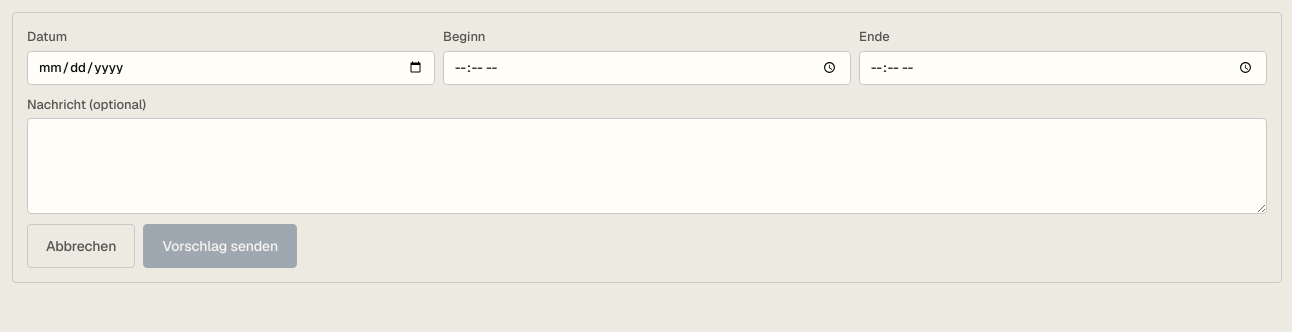
Test case: provider current viewing › uses the proposal fallback for an unknown schedule error
In the date field labelled "Datum": [231, 68] box top-left (27, 50), bottom-right (435, 84), type "2026-01-15"
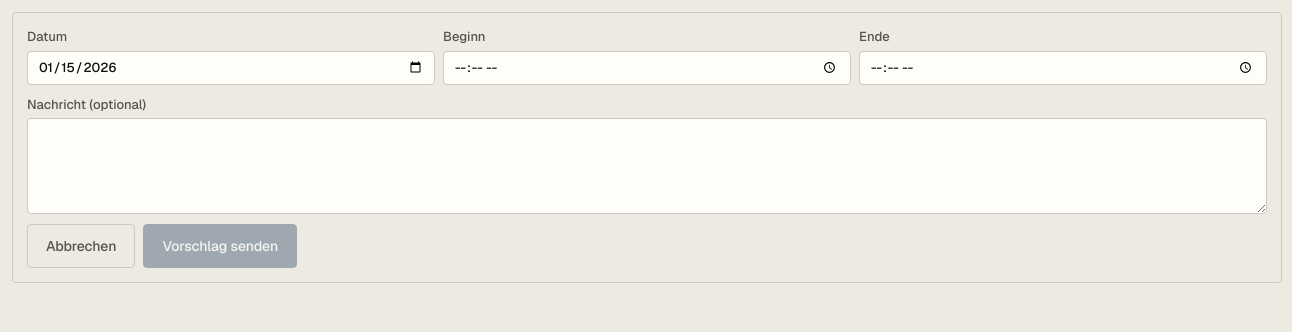
In the time field labelled "Beginn": [647, 68] box top-left (443, 50), bottom-right (851, 84), type "16:00"
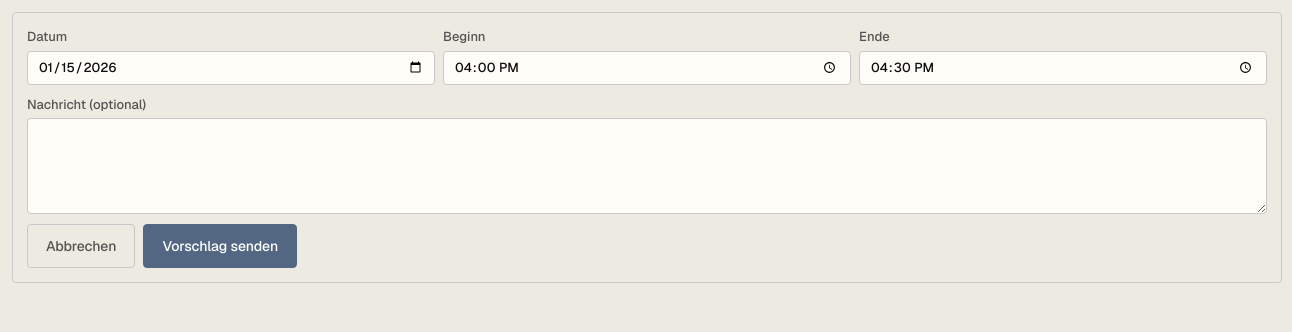
Click the button "Vorschlag senden": [220, 246] box top-left (143, 224), bottom-right (297, 268)
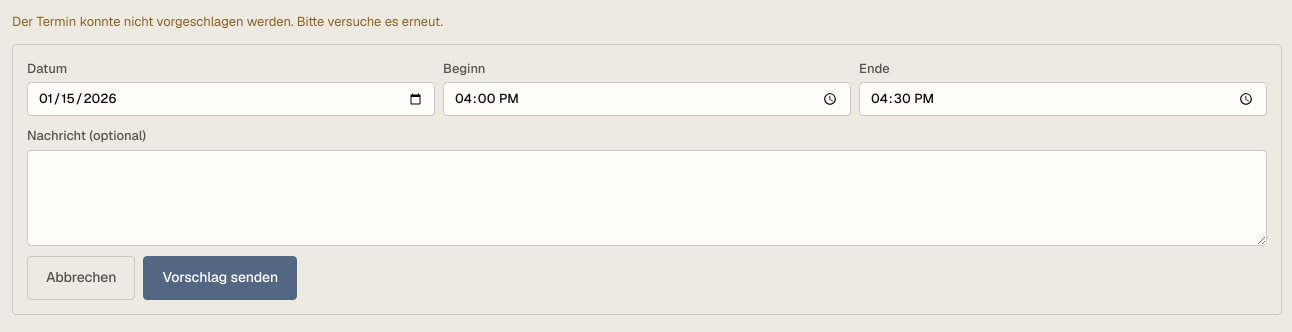
Now the message reads "Der Termin konnte nicht vorgeschlagen werden. Bitte versuche es erneut.", box top-left (12, 13), bottom-right (443, 30)
